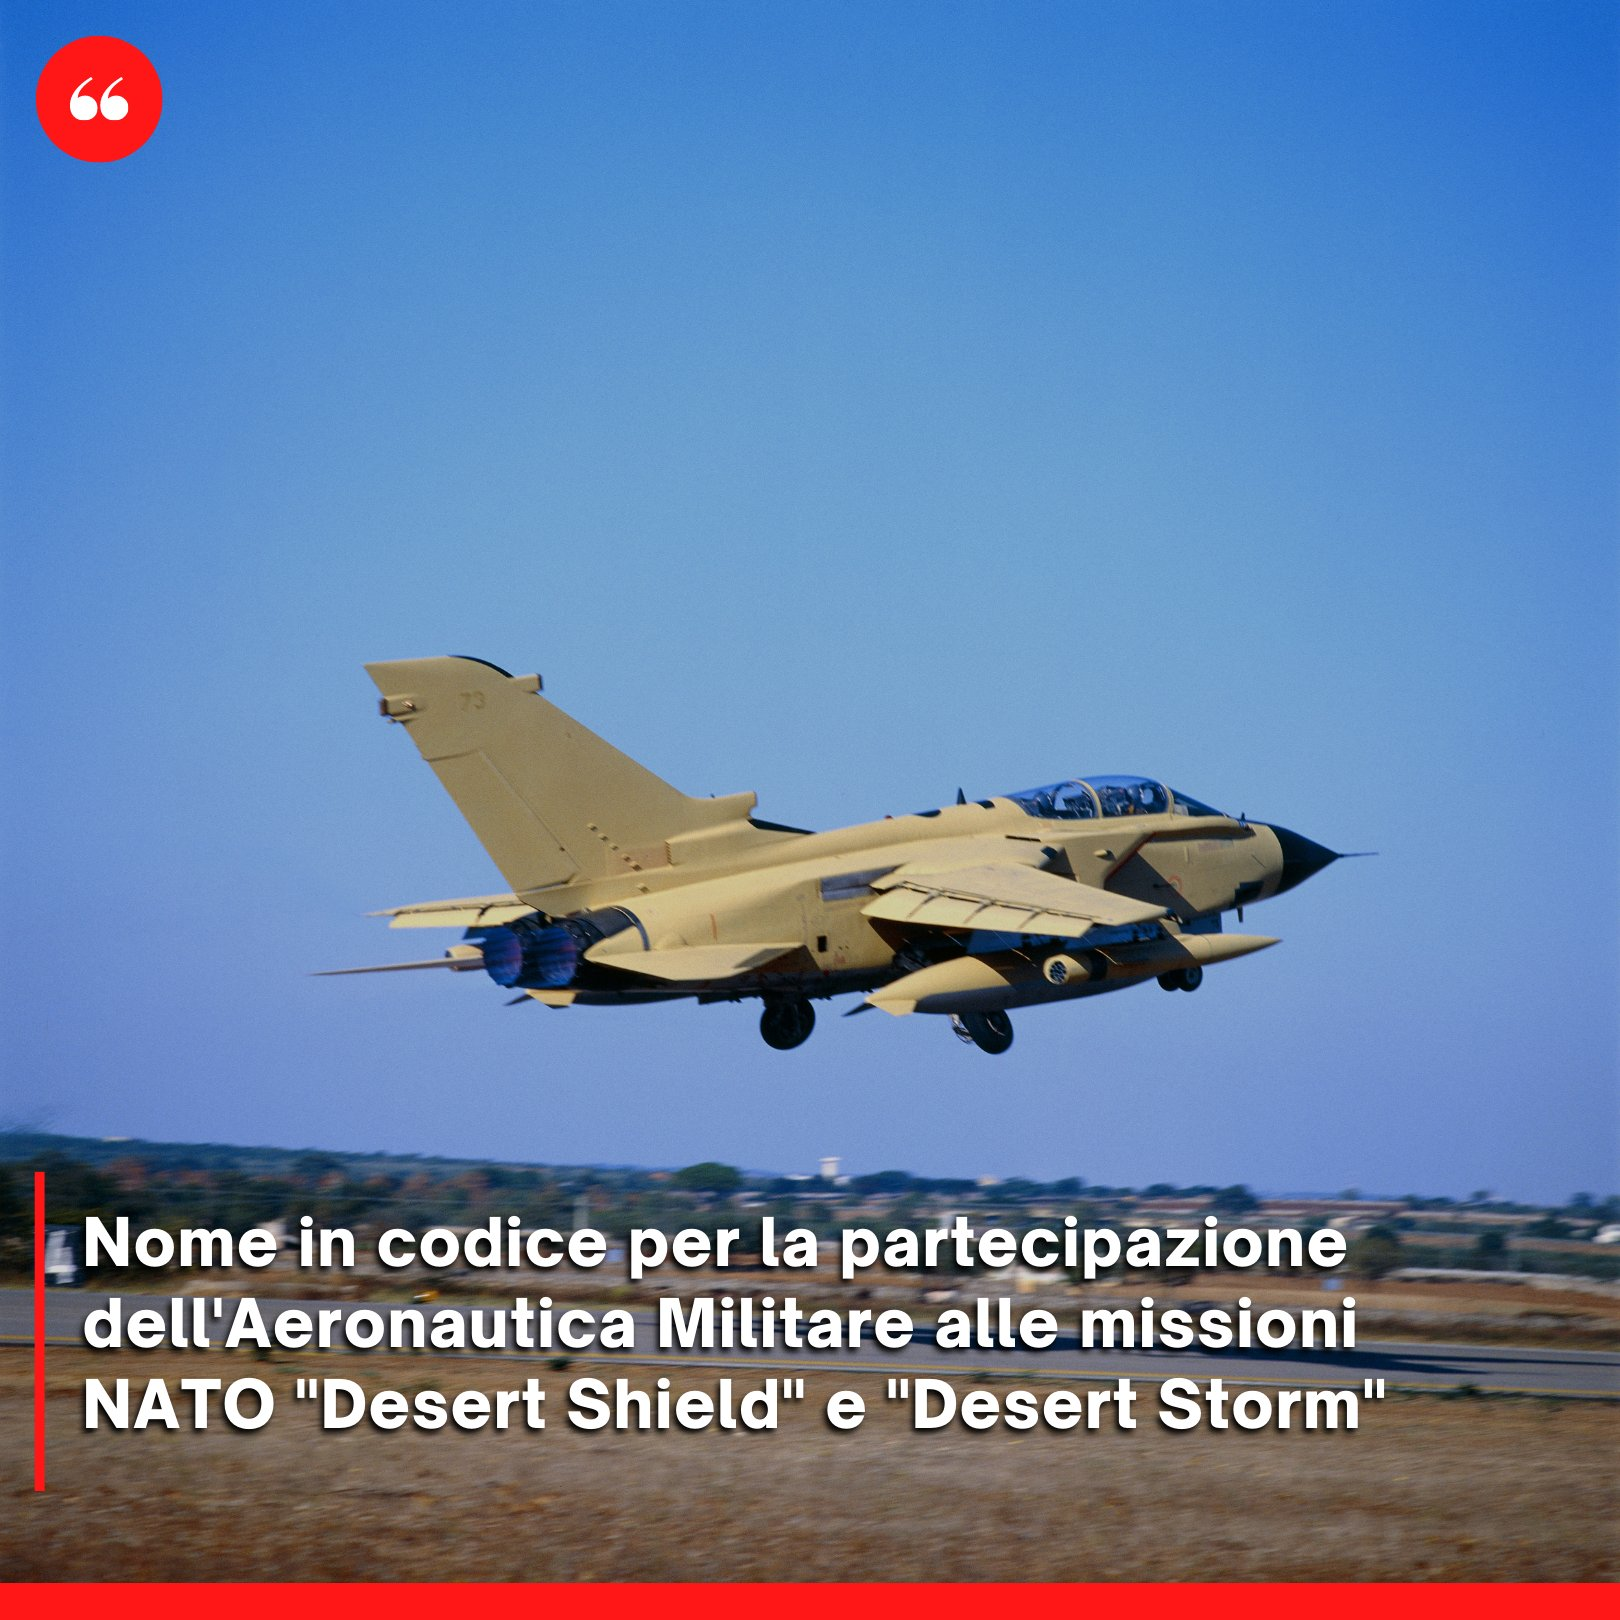Tornado: (303, 653, 1381, 1056)
